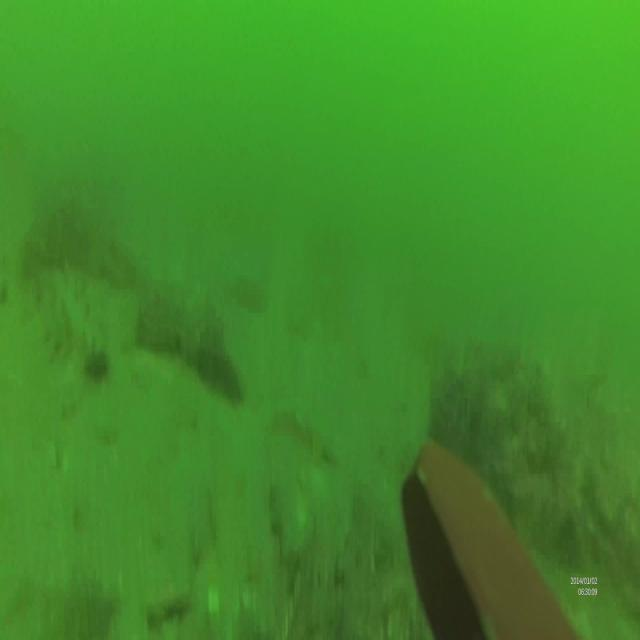holothurian: (35, 265, 108, 383)
